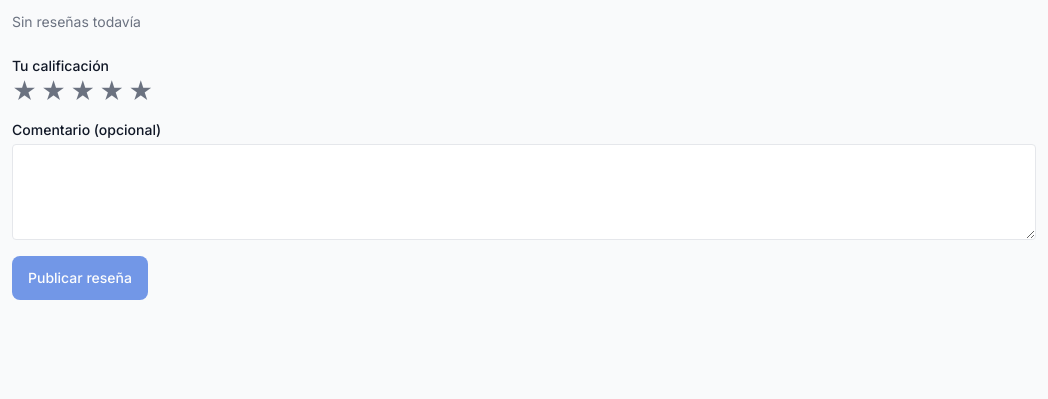
Test: ReviewsDataContainer — ciclo de submit (AC-1/AC-2/AC-5/AC-6/AC-9) › éxito: publica, refresca el listado y pasa a `eligible-editing` (T-B3)
expect the element showing "★ ★ ★ ★ ★" is shown: met, box [12,80,153,104]
Click the radio button named "4 de 5 estrellas" at (112, 92), box [99,80,124,104]
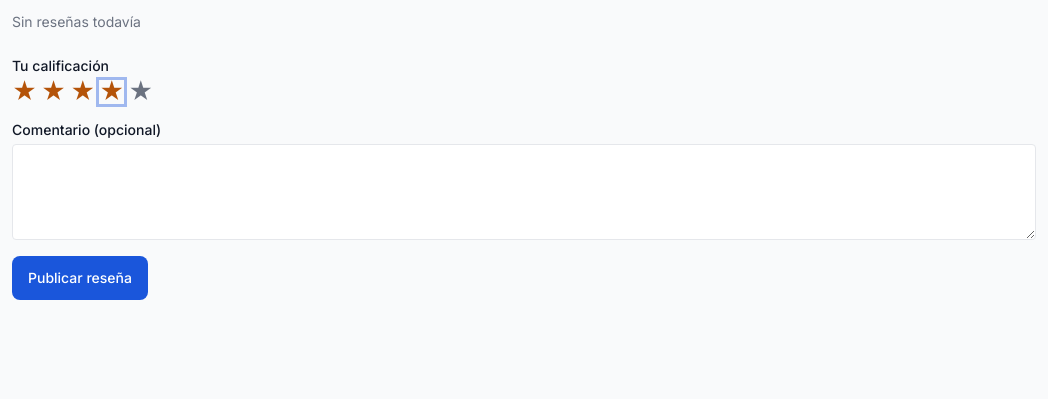
Click the button "Publicar reseña" at (80, 278), box [12,256,148,300]
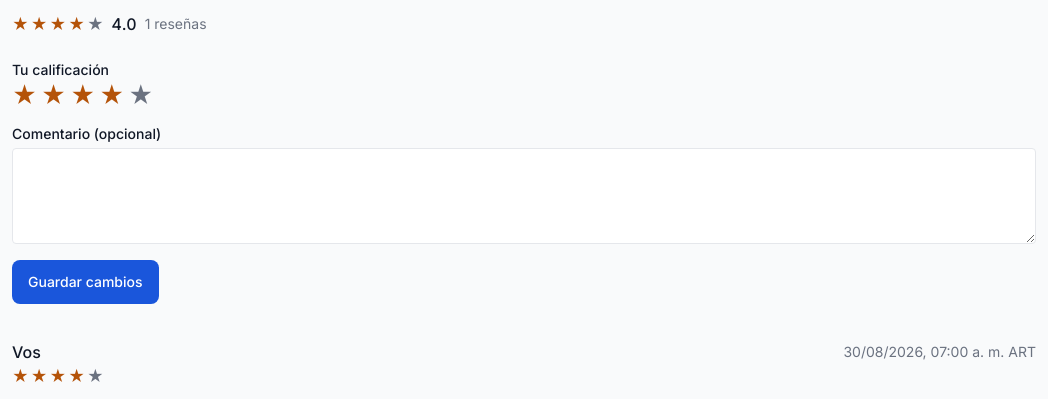
expect the button "Guardar cambios" is shown: met, box [12,260,158,304]
